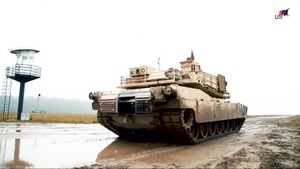abrams: (89, 63, 251, 142)
